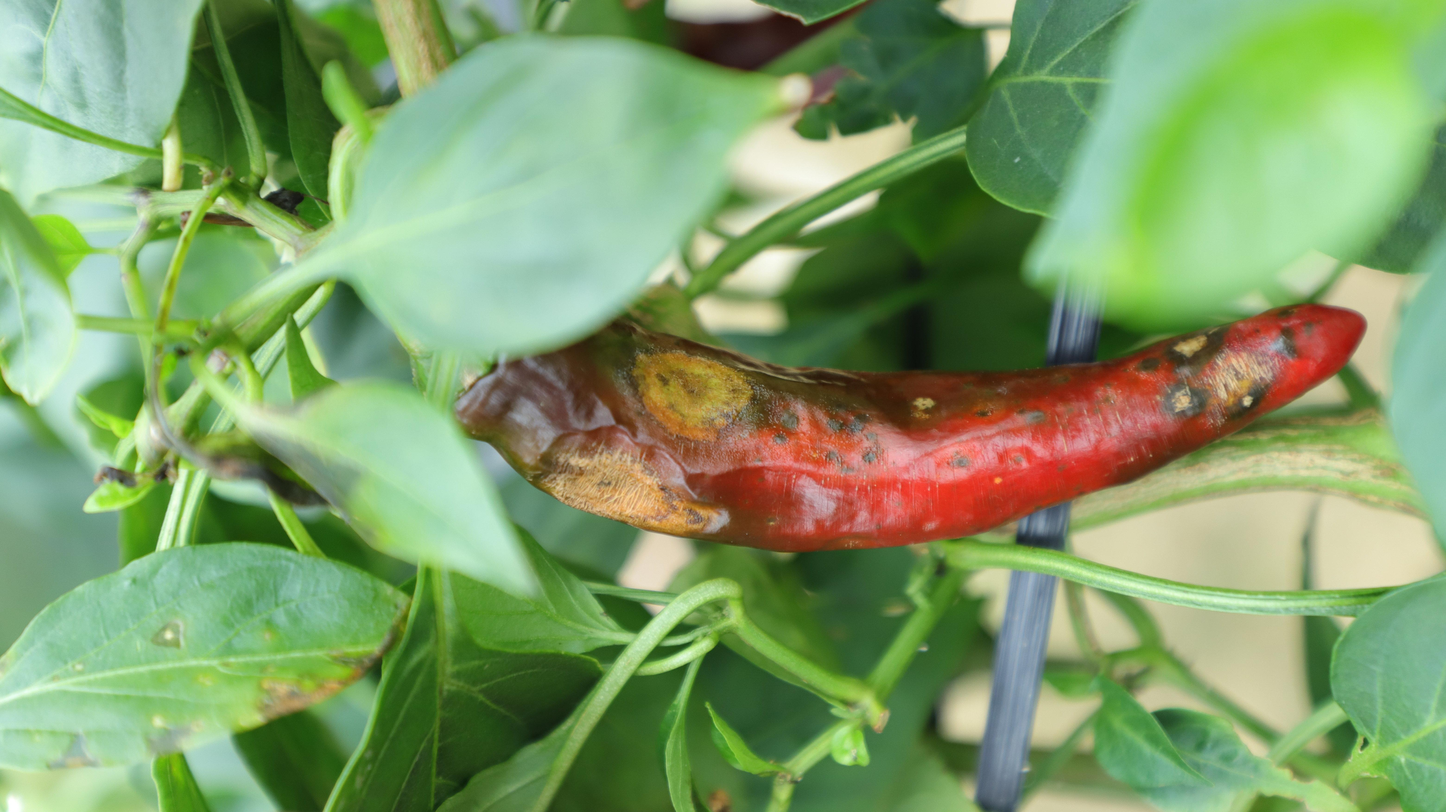Bercak Daun Serkospora: (0, 536, 411, 775)
Busuk Buah Antraknosa: (450, 296, 1369, 555)
Daun Cabai Sehat: (322, 31, 830, 361)
